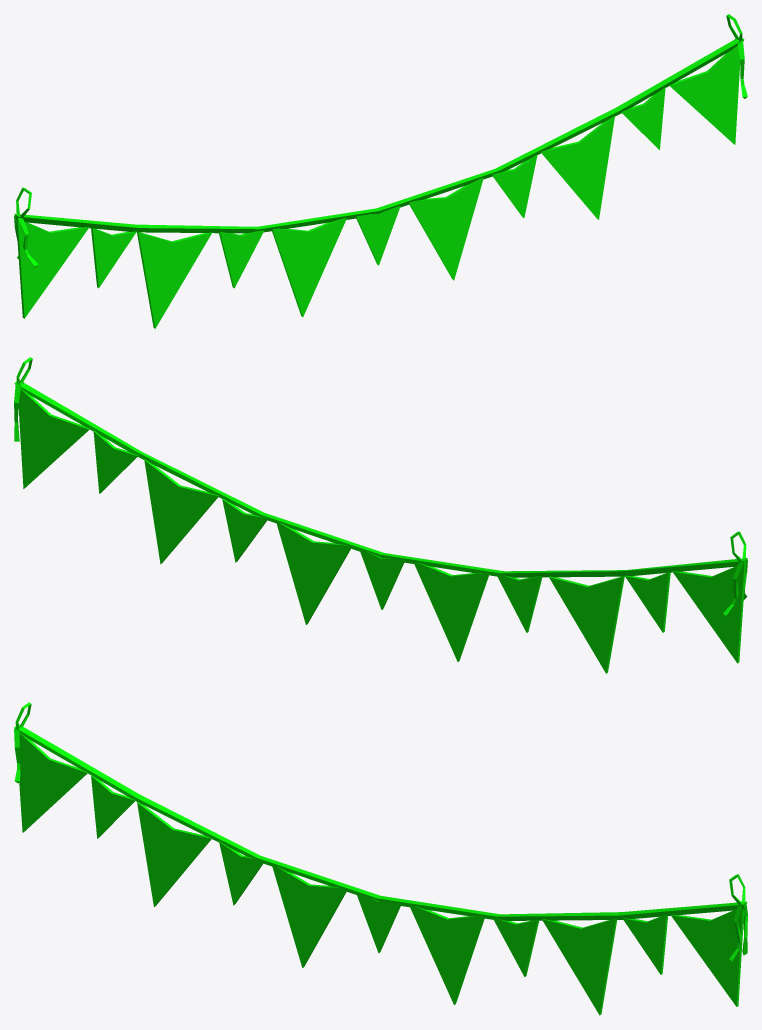
File: SM_Garland_Triangles_2m_Fantasy.fbx
3 views of the same model, one above another, from view 1: azimuth 30°, elevation 25°; view 2: azimuth 150°, elevation 25°; view 3: azimuth 330°, elevation 25° (orthographic).
Visible parts, largest first — view 1: garland-triangles-2m-fantasy; view 2: garland-triangles-2m-fantasy; view 3: garland-triangles-2m-fantasy.
Boxes of the visible parts, left/top/right/bottom form: garland-triangles-2m-fantasy: left=14, top=14, right=747, bottom=328; garland-triangles-2m-fantasy: left=14, top=357, right=747, bottom=673; garland-triangles-2m-fantasy: left=14, top=702, right=747, bottom=1015.
Size of the model in its own units: 2 by 0.5155 by 0.092.
